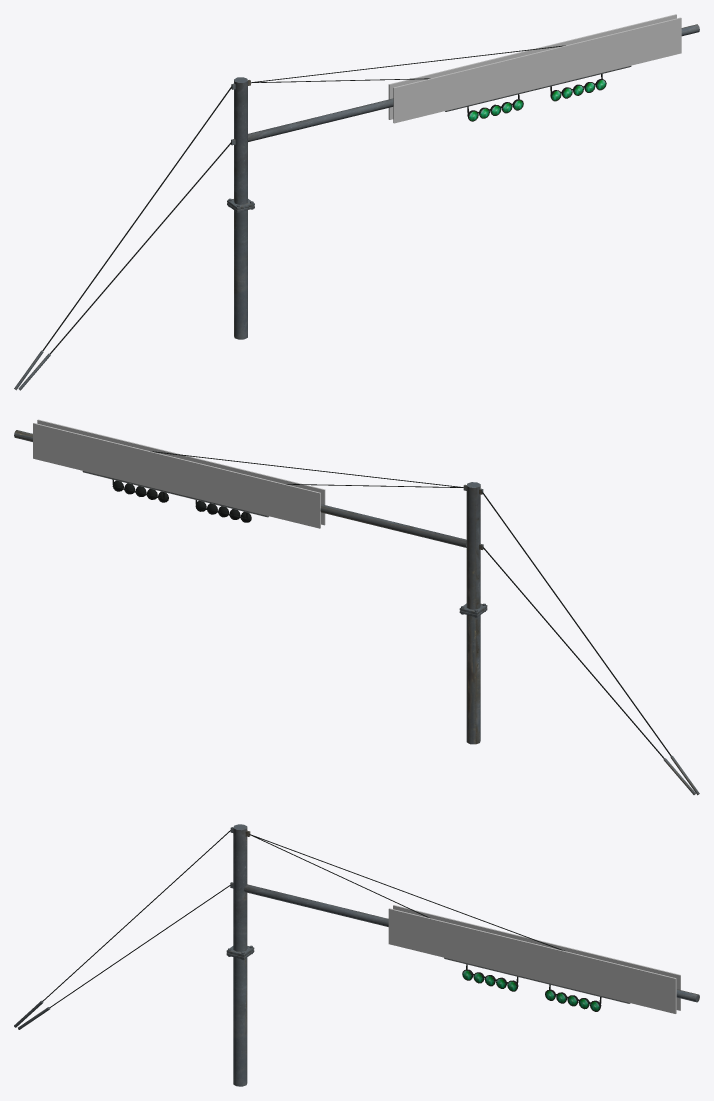
Rendered from Post-Start-03-LA.fbx.
3 renders of one model, top to bottom at view 1: azimuth 30°, elevation 25°; view 2: azimuth 150°, elevation 25°; view 3: azimuth 330°, elevation 25°, orthographic.
Parts seen in each view (by area): view 1: Post-Start--03, Green; view 2: Post-Start--03; view 3: Post-Start--03, Green.
Part boxes in pixels (x1,y1,x2,y2): Post-Start--03: (14,14,699,390); Green: (469,80,605,120); Post-Start--03: (14,419,699,795); Post-Start--03: (14,824,699,1086); Green: (462,970,599,1011).
Bounding box in the file's own units: 3554 × 1275 × 91.37.
